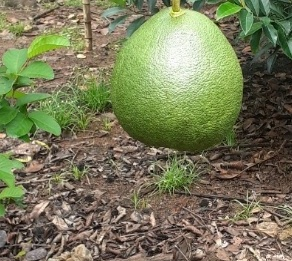Buoi: (104, 6, 253, 161)
